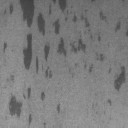red iron: (9, 0, 120, 78), (9, 87, 45, 126), (88, 54, 104, 74), (114, 66, 126, 92), (6, 74, 14, 82), (3, 42, 8, 53), (56, 104, 60, 114), (107, 99, 112, 106)
